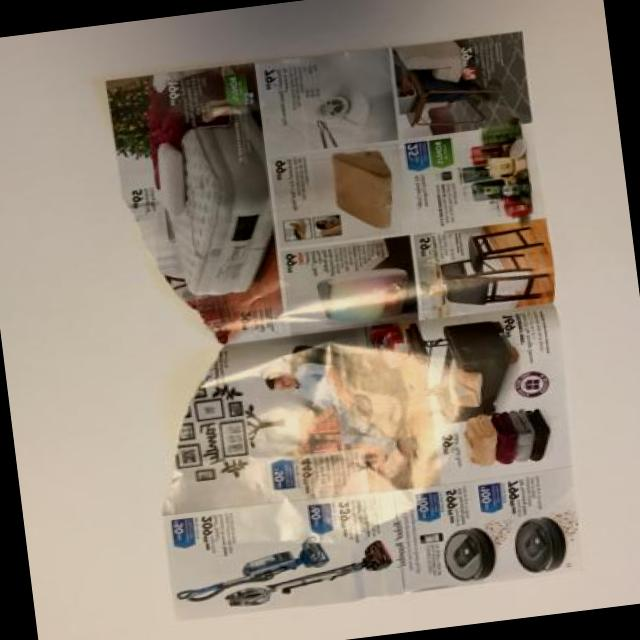paper: (97, 25, 582, 616)
